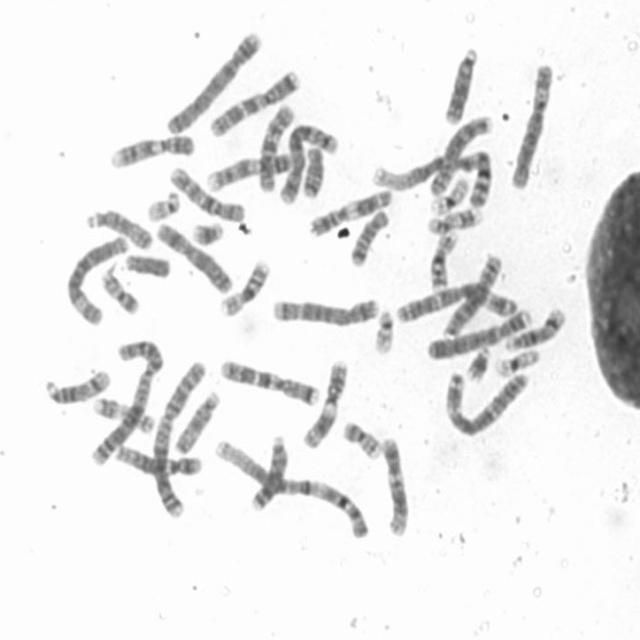A1: (213, 435, 371, 542), (368, 149, 498, 211)
A2: (90, 338, 165, 468), (150, 357, 209, 519)
A3: (442, 371, 533, 441), (394, 278, 523, 327)
B4: (166, 27, 266, 136), (425, 305, 535, 363)
B5: (277, 121, 340, 208), (271, 296, 382, 330)
C10: (169, 167, 249, 223), (256, 102, 296, 194)
C11: (306, 186, 396, 239), (301, 356, 349, 450)
C12: (112, 442, 204, 478), (380, 435, 410, 539)
C6: (509, 61, 557, 192), (65, 234, 131, 328)
C7: (209, 69, 303, 138), (218, 358, 321, 408)
C8: (428, 112, 497, 200), (441, 252, 504, 340)
C9: (205, 150, 293, 193), (108, 134, 197, 170)
D13: (442, 45, 482, 127), (250, 432, 290, 514)
D14: (501, 304, 567, 354), (44, 367, 112, 408)
D15: (83, 205, 156, 252), (173, 391, 221, 456)
E16: (217, 255, 275, 318), (428, 229, 461, 293)
E17: (90, 396, 157, 436), (426, 206, 486, 236)
E18: (349, 209, 391, 270), (300, 144, 326, 202)
F19: (427, 176, 471, 218), (490, 346, 542, 379)
F20: (98, 270, 142, 317), (340, 419, 382, 461)
G21: (464, 344, 493, 384), (190, 219, 225, 247)
G22: (144, 189, 182, 225), (372, 306, 397, 358)
X: (154, 222, 235, 295)
Y: (122, 252, 173, 281)
